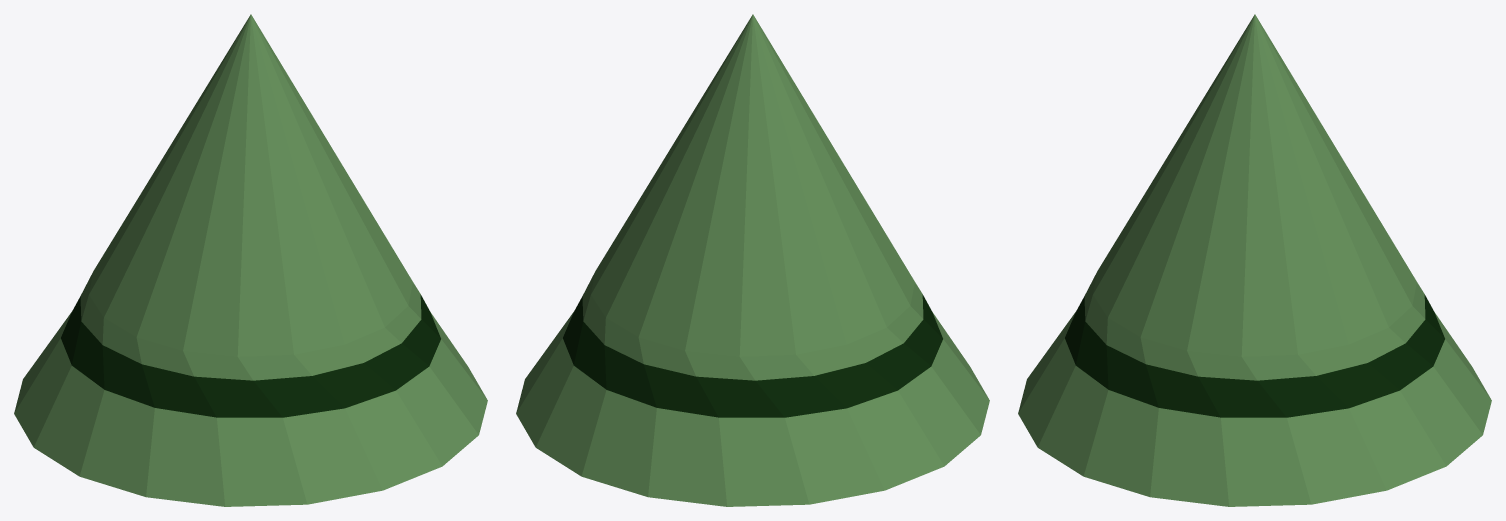
The model's file is BamStage1.fbx.
The picture shows the model from 3 angles, left to right: view 1: azimuth 30°, elevation 25°; view 2: azimuth 150°, elevation 25°; view 3: azimuth 270°, elevation 25°; orthographic projection.
Parts seen in each view (by area): view 1: BamStage1; view 2: BamStage1; view 3: BamStage1.
Boxes of the visible parts, box(x1,y1,x2,y2) form: BamStage1: box(14, 14, 487, 506); BamStage1: box(516, 14, 989, 506); BamStage1: box(1018, 14, 1491, 506).
Bounding box in the file's own units: 196 × 180 × 196.
